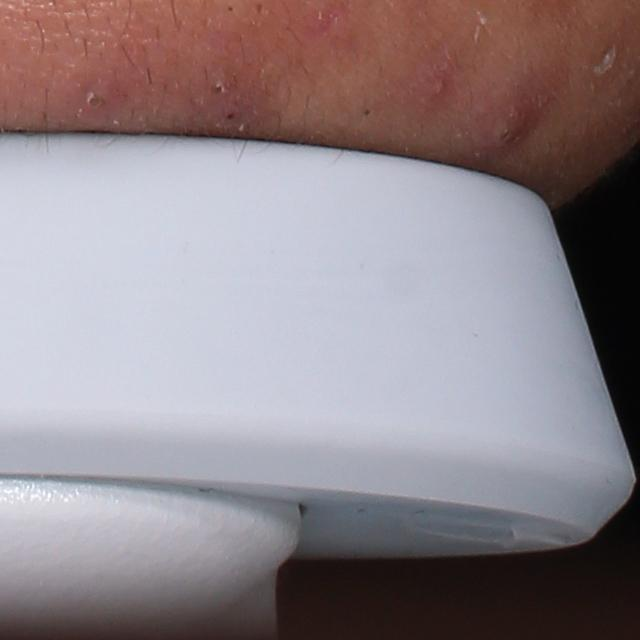comedo: (84, 87, 107, 108), (209, 80, 231, 97)
papule: (470, 90, 542, 151)
